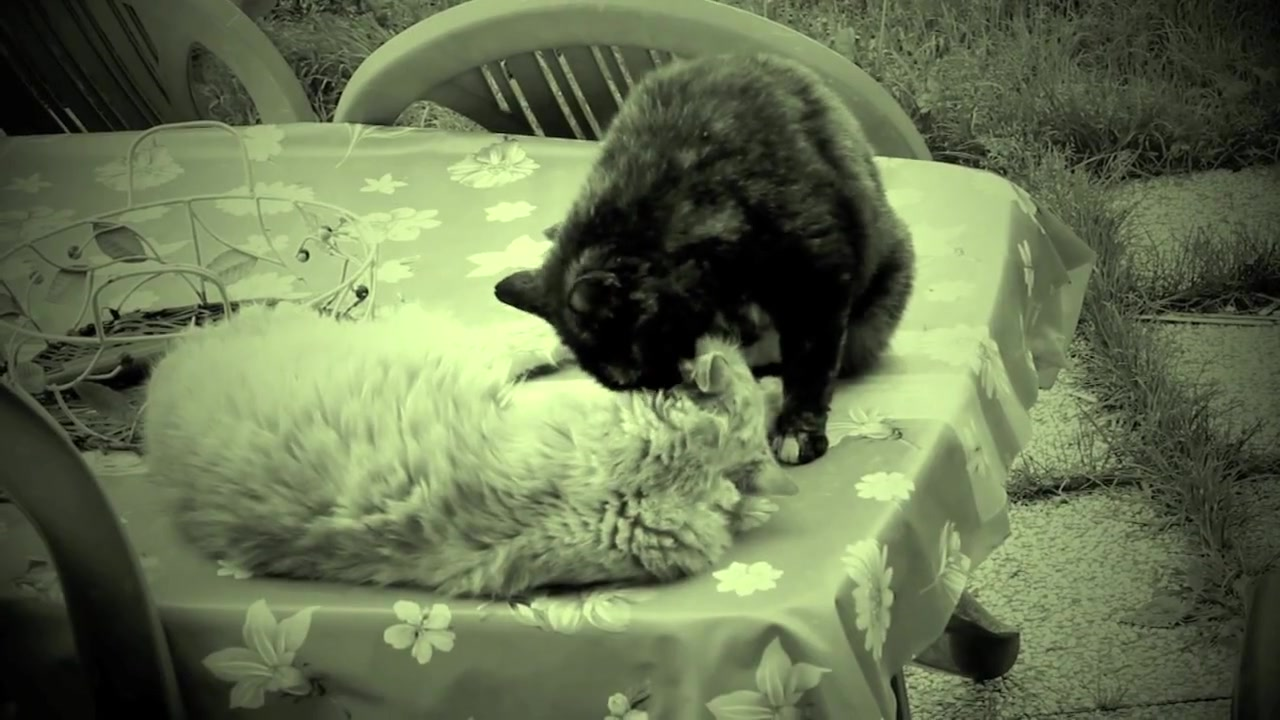cat: (140, 293, 803, 604)
